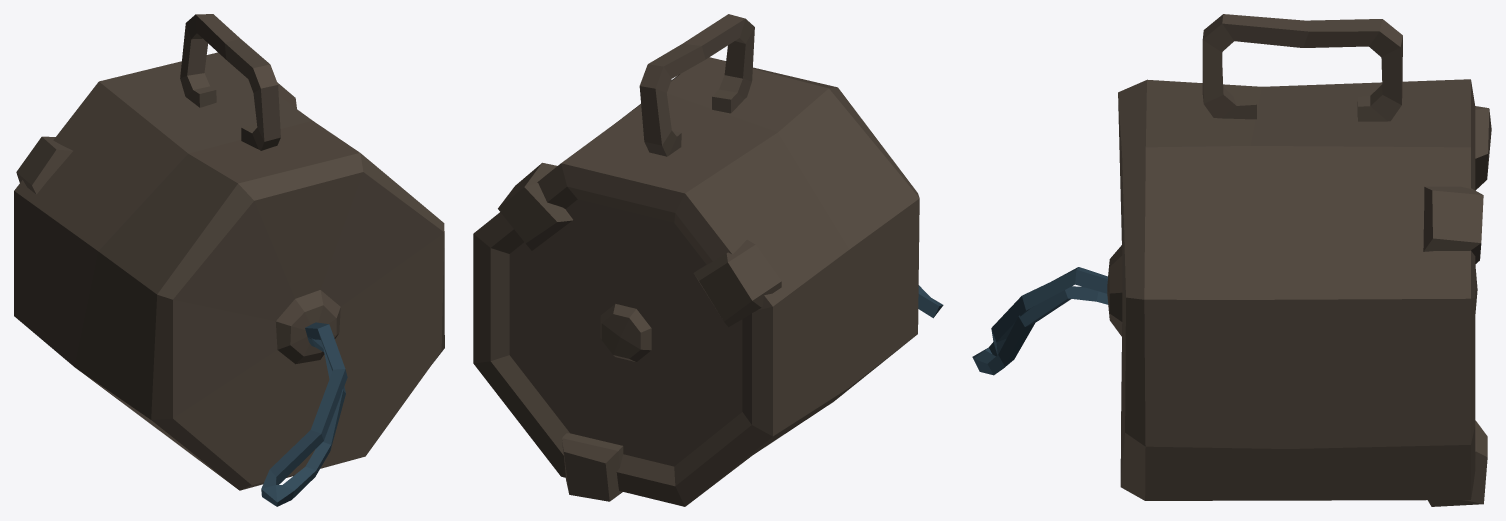
Rendered from SM_Prop_IED_06.fbx.
The picture shows the model from 3 angles, left to right: view 1: azimuth 30°, elevation 25°; view 2: azimuth 150°, elevation 25°; view 3: azimuth 270°, elevation 25°; orthographic projection. The views are drawn at different scales.
Parts seen in each view (by area): view 1: SM_Prop_IED_06; view 2: SM_Prop_IED_06; view 3: SM_Prop_IED_06.
Part boxes in pixels (<box>): SM_Prop_IED_06: <box>14,14,444,506</box>; SM_Prop_IED_06: <box>473,14,943,506</box>; SM_Prop_IED_06: <box>972,14,1491,506</box>.
Size of the model in its own units: 23.15 by 29.17 by 29.83.
